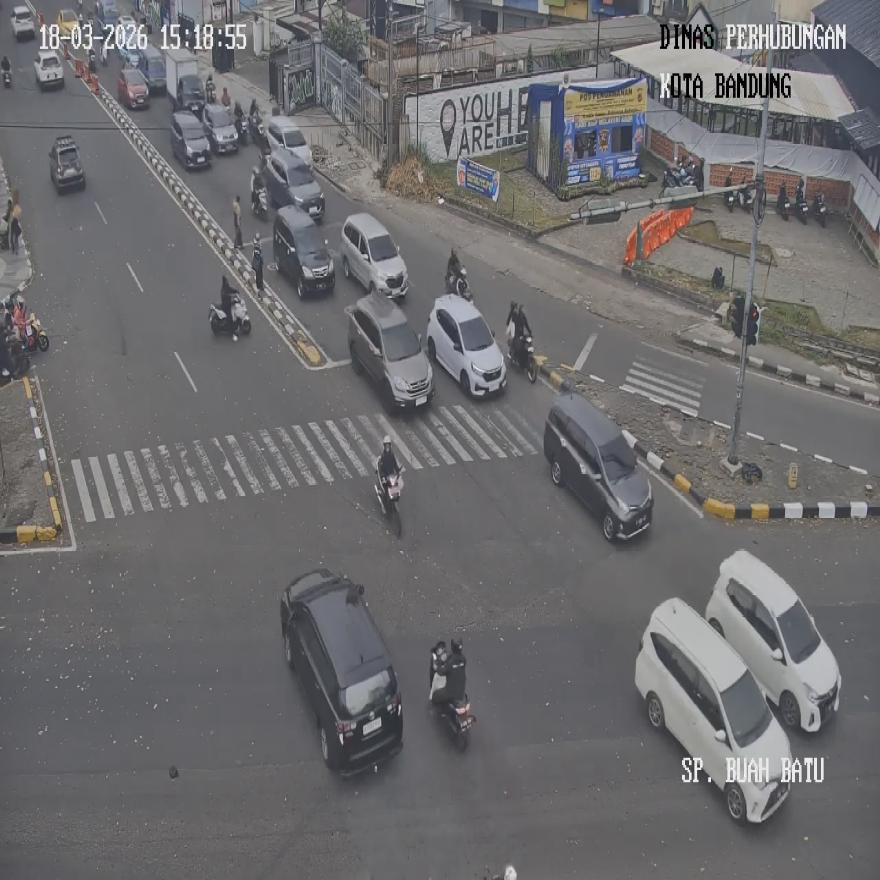Motor: (634, 598, 793, 822), (280, 568, 403, 776), (704, 549, 842, 732), (543, 390, 653, 541), (346, 287, 434, 411), (426, 292, 508, 397), (272, 203, 335, 297), (341, 212, 408, 298), (262, 149, 324, 221)
Truk: (429, 642, 474, 749), (376, 456, 404, 535), (209, 294, 251, 339), (0, 331, 31, 383), (509, 332, 536, 382), (21, 312, 48, 353), (250, 165, 268, 219), (445, 263, 470, 299), (252, 232, 264, 295), (249, 114, 266, 146), (232, 196, 242, 250), (724, 168, 736, 212), (740, 181, 756, 214), (234, 108, 248, 144), (795, 186, 808, 222), (777, 182, 788, 221), (813, 191, 825, 226), (204, 74, 216, 102), (1, 55, 11, 87)
